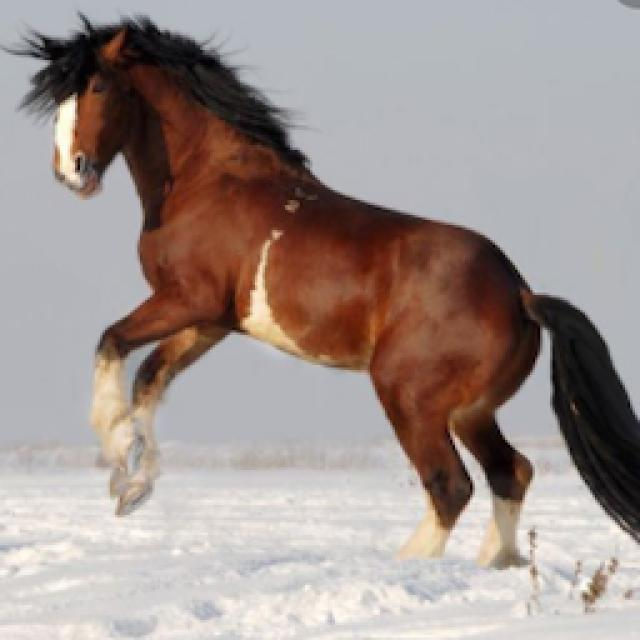Horse: (0, 5, 638, 575)
